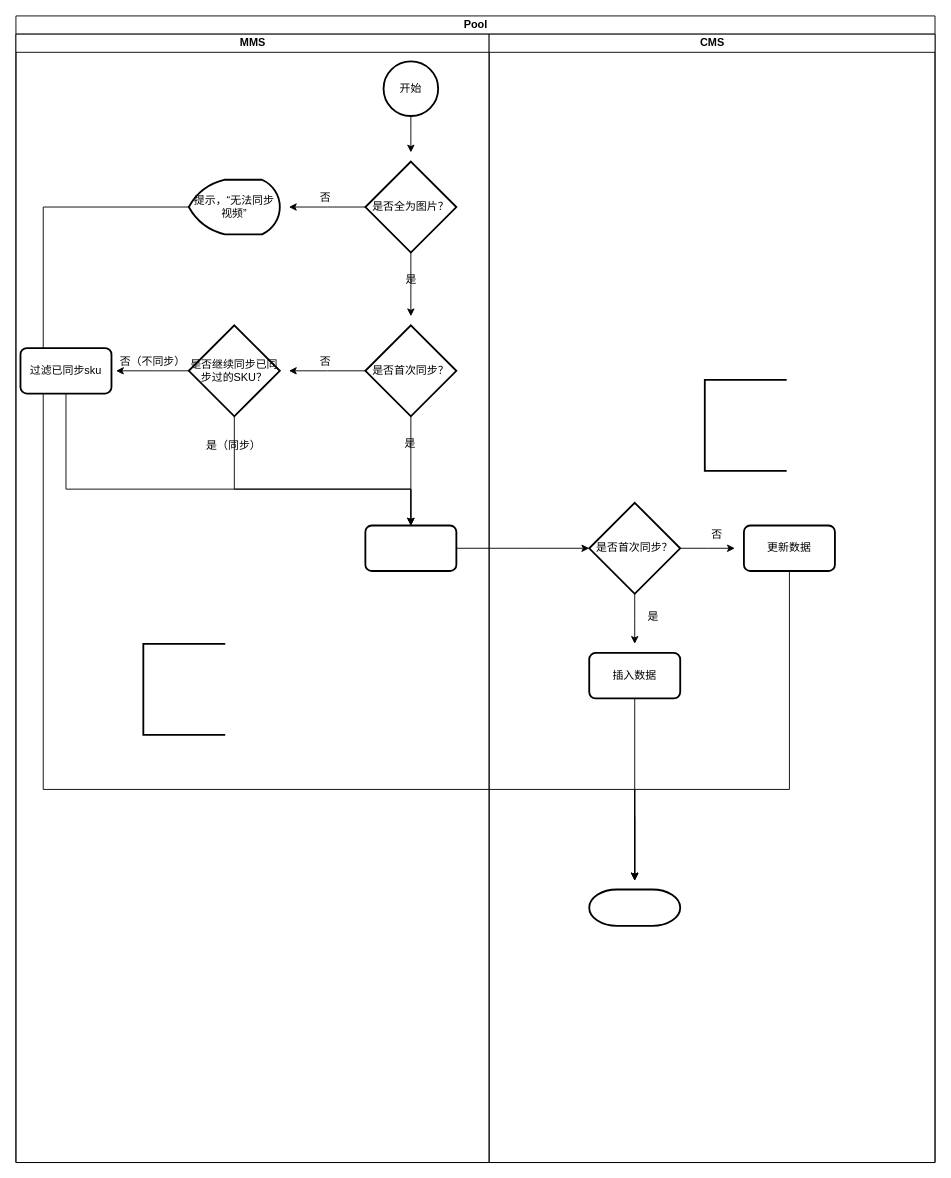
Some shapes in this 951 by 1178 pixel diagram are drawn without their labels. Each missing label, with the centre of its shape:
"CMS接口： spi/sync/influencer/data， 数据写入：patpat.oms_influencer_data表中" goes at pixel 184 688.
"根据id 和 category做唯一性验证" goes at pixel 745 425.
"结束" goes at pixel 634 907.
"调用CMS同步接口" goes at pixel 410 547.
